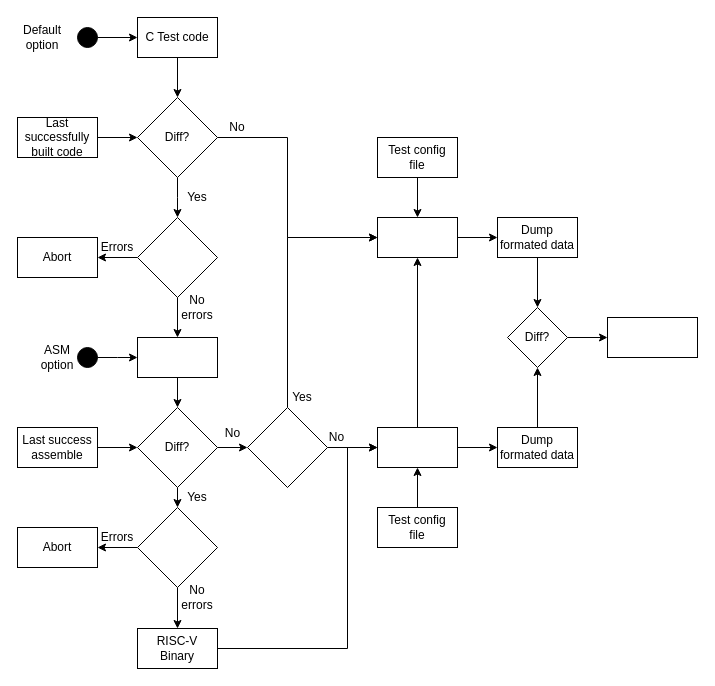
The diagram is 715 pixels wide and 686 high, and some of its shapes have lost their labels. The centre of each missing label's shape, as x and y in pixels:
"ASM option?" goes at (287,447).
"Assemble" goes at (177,547).
"Compile" goes at (177,257).
"Log pass/Fail" goes at (652,337).
"RISC-V assembly" goes at (177,357).
"Simulate HDL model" goes at (417,237).
"Simulate with Spike" goes at (417,447).
